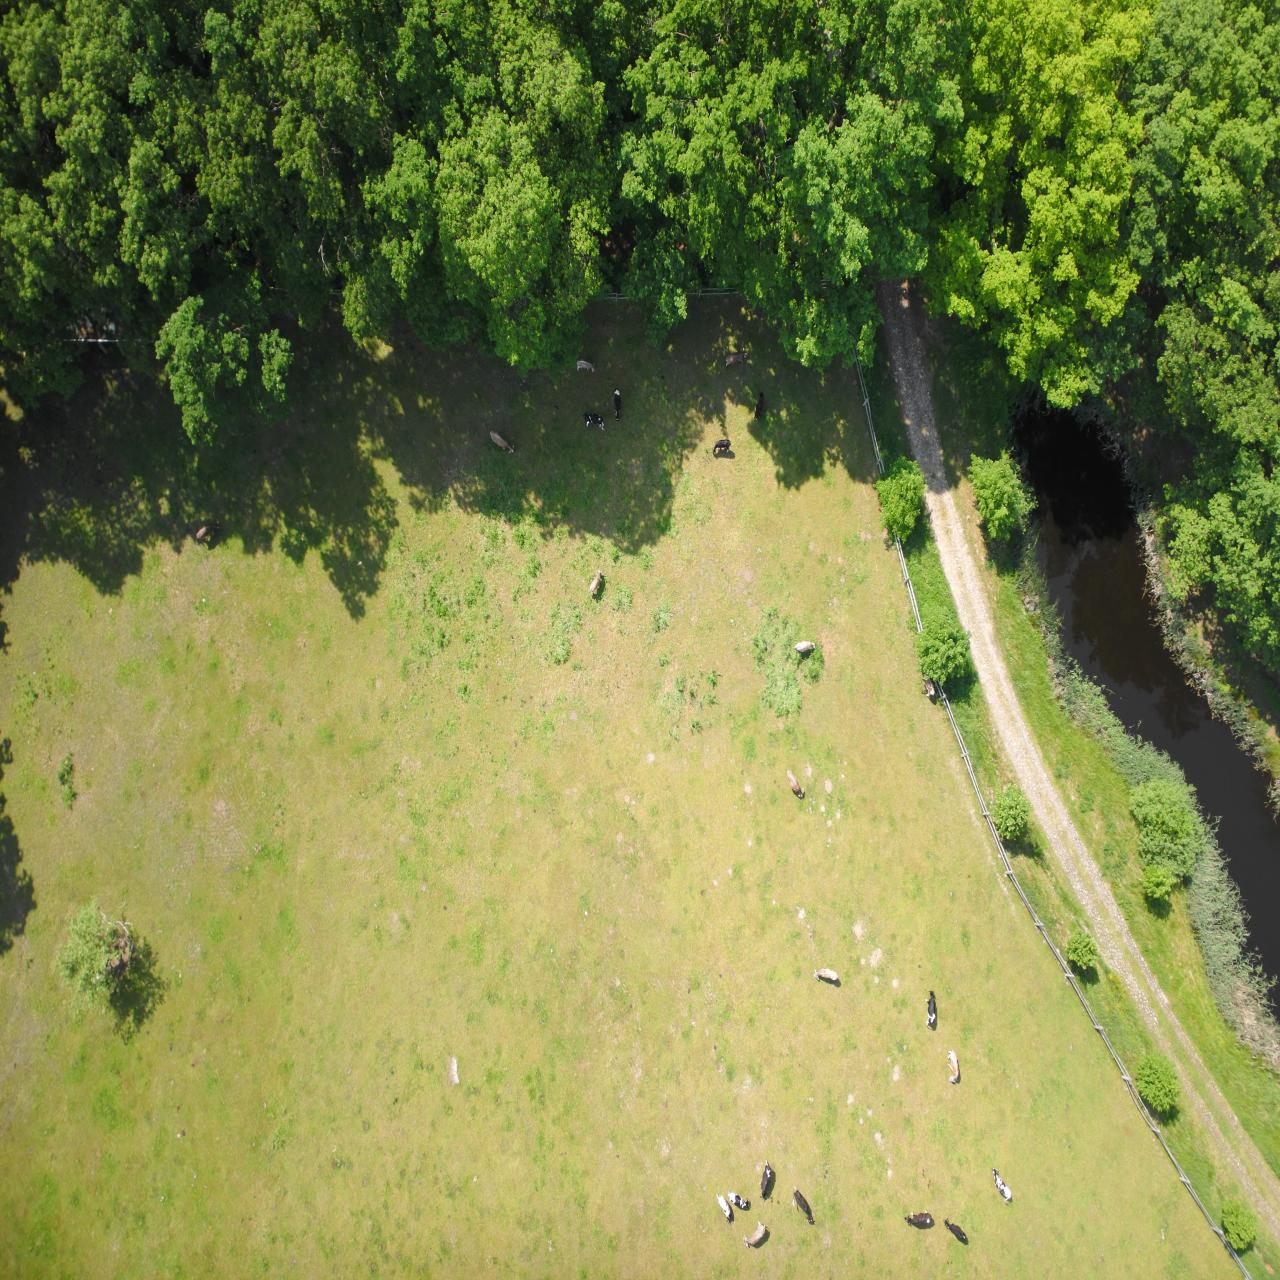cow: (467, 56, 488, 94), (268, 77, 288, 113), (313, 38, 336, 62), (764, 826, 790, 849), (475, 481, 493, 511), (516, 33, 537, 60), (547, 55, 564, 88), (1058, 740, 1084, 760), (530, 69, 552, 89), (509, 82, 520, 120), (348, 53, 375, 68), (343, 253, 354, 291), (533, 913, 554, 932), (675, 850, 697, 867), (321, 195, 332, 230), (678, 685, 690, 710), (442, 298, 467, 311), (550, 824, 567, 842), (516, 859, 526, 888), (683, 907, 703, 920), (659, 858, 666, 891), (464, 628, 485, 639)
